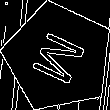M_SE: (26, 26, 91, 89)
